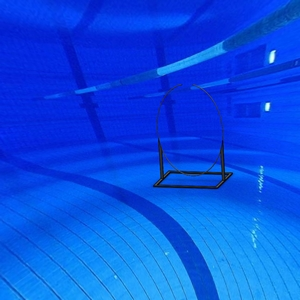circle: (152, 82, 236, 192)
